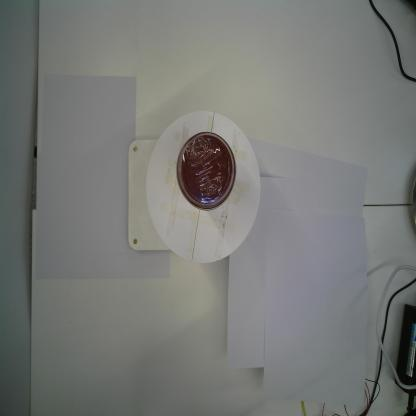Instant Drink: (174, 128, 238, 216)
